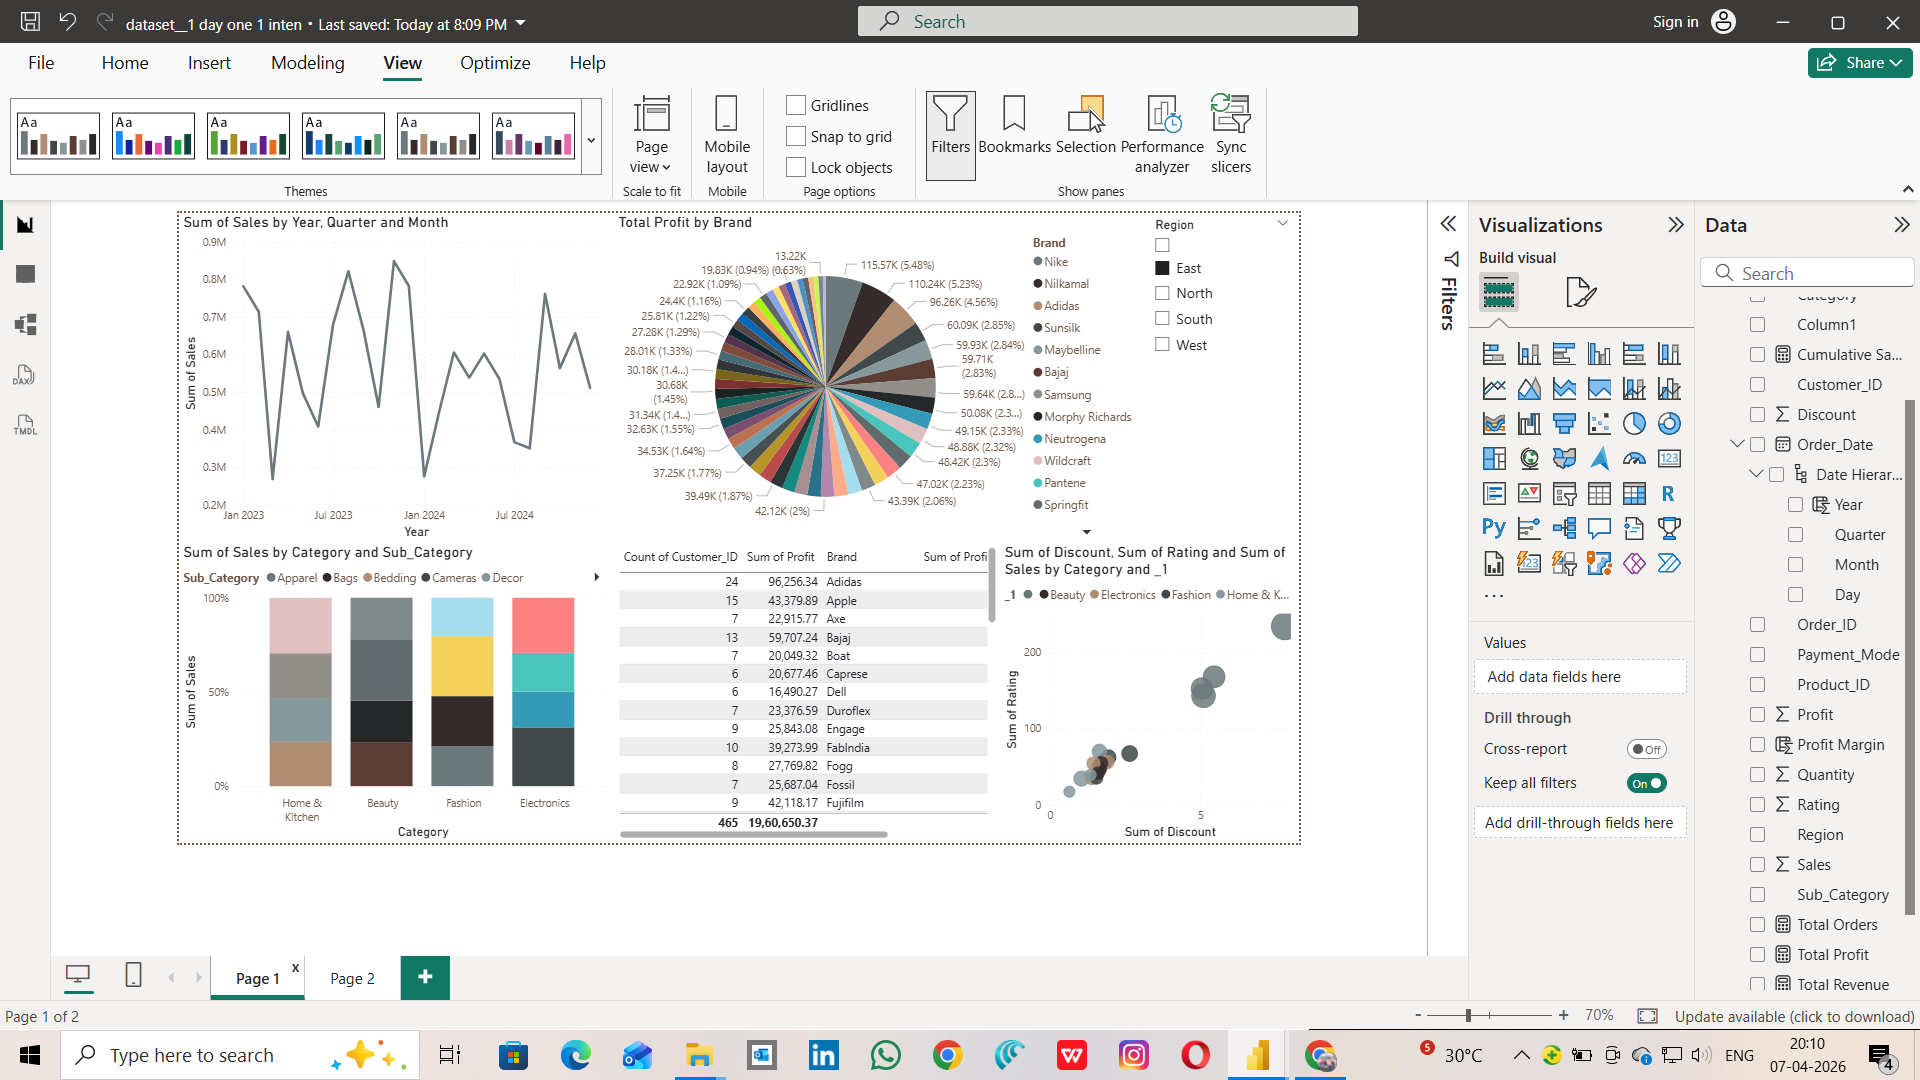

Layout of this report page (visuals, bound fields, positions):
{"tool":"powerbi","page":{"name":"Page 1","canvas":[1280,720],"ordinal":0},"visuals":[{"type":"lineChart","fields":{"Category":["dataset_1(Sheet1).Order_Date.Variation.Date Hierarchy.Year","dataset_1(Sheet1).Order_Date.Variation.Date Hierarchy.Quarter","dataset_1(Sheet1).Order_Date.Variation.Date Hierarchy.Month"],"Y":["Sum(dataset_1(Sheet1).Sales)"]},"box":[0,0,497.1,377.6],"z":0},{"type":"slicer","fields":{"Values":["dataset_1(Sheet1).Region"]},"box":[1102.7,189.4,177.3,182.2],"z":1000},{"type":"tableEx","fields":{"Values":["CountNonNull(dataset_1(Sheet1).Customer_ID)","Sum(dataset_1(Sheet1).Profit)","dataset_1(Sheet1).Brand","Sum(dataset_1(Sheet1).Profit Margin)","Sum(dataset_1(Sheet1).Sales)"]},"box":[497.1,377.6,441.6,342.6],"z":2000},{"type":"hundredPercentStackedColumnChart","fields":{"Category":["dataset_1(Sheet1).Category"],"Series":["dataset_1(Sheet1).Sub_Category"],"Y":["Sum(dataset_1(Sheet1).Sales)"]},"box":[0,377.6,497.1,342.6],"z":3000},{"type":"scatterChart","fields":{"X":["Sum(dataset_1(Sheet1).Discount)"],"Y":["Sum(dataset_1(Sheet1).Rating)"],"Size":["Sum(dataset_1(Sheet1).Sales)"],"Category":["dataset_1(Sheet1).Category"],"Series":["dataset_1(Sheet1)._1"]},"box":[938.6,377.1,341.4,342.9],"z":4000},{"type":"pieChart","fields":{"Category":["dataset_1(Sheet1).Brand"],"Y":["dataset_1(Sheet1).Total Profit"]},"box":[497.1,0,605.6,377.6],"z":5000},{"type":"cardVisual","fields":{"Data":["dataset_1(Sheet1).Total Sales"]},"box":[1065.7,0,214.3,190],"z":6000}]}

Visuals, with their boxes on the page's 1280x720 design canvas (x1, y1, x2, y2). These are canvas units, not pixel positions in the 1920x1080 screenshot, which may show the page scaled, cropped or inside an application window:
lineChart - dataset_1(Sheet1).Order_Date.Variation.Date Hierarchy.Year x dataset_1(Sheet1).Order_Date.Variation.Date Hierarchy.Quarter: 0, 0, 497, 378
slicer - dataset_1(Sheet1).Region: 1103, 189, 1280, 372
tableEx - CountNonNull(dataset_1(Sheet1).Customer_ID) x Sum(dataset_1(Sheet1).Profit): 497, 378, 939, 720
hundredPercentStackedColumnChart - dataset_1(Sheet1).Category x dataset_1(Sheet1).Sub_Category: 0, 378, 497, 720
scatterChart - Sum(dataset_1(Sheet1).Discount) x Sum(dataset_1(Sheet1).Rating): 939, 377, 1280, 720
pieChart - dataset_1(Sheet1).Brand x dataset_1(Sheet1).Total Profit: 497, 0, 1103, 378
cardVisual - dataset_1(Sheet1).Total Sales: 1066, 0, 1280, 190
